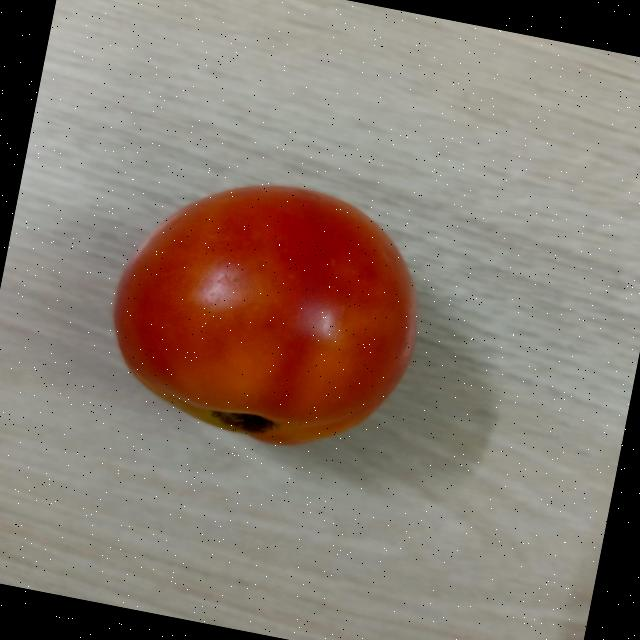Tomato: (86, 152, 441, 466)
